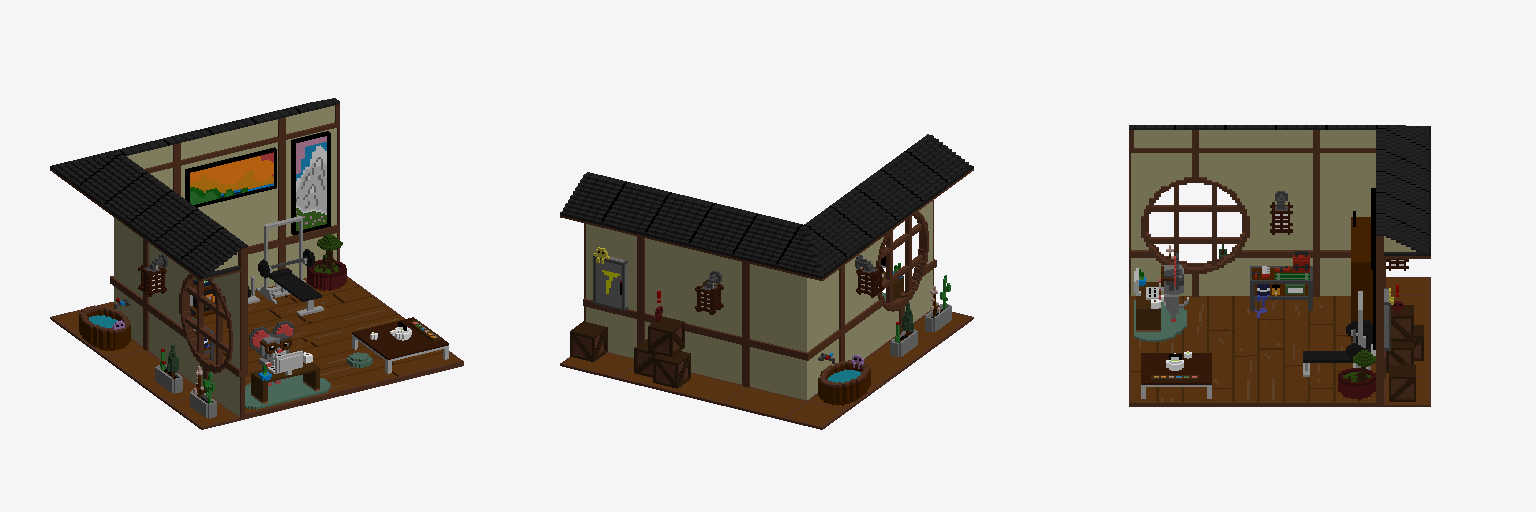
The picture shows the model from 3 angles: view 1: azimuth 30°, elevation 25°; view 2: azimuth 150°, elevation 25°; view 3: azimuth 270°, elevation 25°; orthographic projection.
Parts seen in each view (by area): view 1: Unified; view 2: Unified; view 3: Unified.
Part boxes in pixels (left/top/right/bottom): Unified: left=50, top=98, right=463, bottom=429; Unified: left=560, top=134, right=973, bottom=429; Unified: left=1129, top=125, right=1430, bottom=406.
Bounding box in the file's own units: 12.1 × 7.6 × 12.
1 materials, 1 textured.